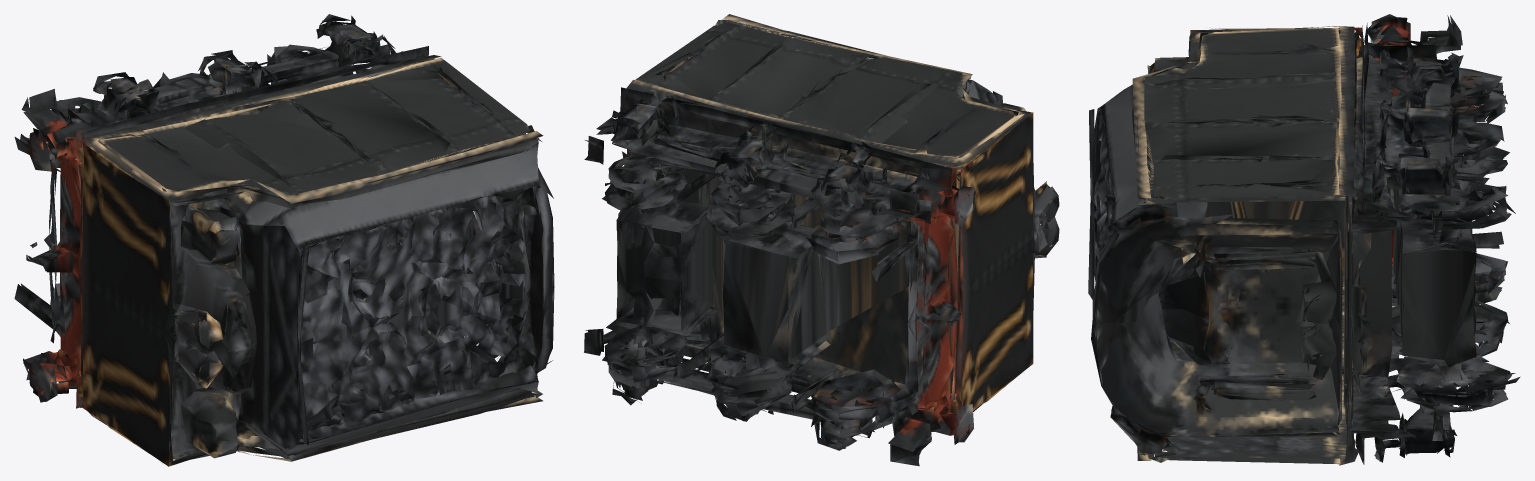
Rendered from black_five_tender_r025.glb.
3 views of the same model, side by side, from view 1: azimuth 30°, elevation 25°; view 2: azimuth 150°, elevation 25°; view 3: azimuth 270°, elevation 25° (orthographic). The views are drawn at different scales.
Parts seen in each view (by area): view 1: part_tender.001; view 2: part_tender.001; view 3: part_tender.001.
Boxes of the visible parts, x1,y1,x2,y2 form: part_tender.001: (14,14,554,466); part_tender.001: (584,14,1059,466); part_tender.001: (1088,14,1520,465).
Size of the model in its own units: 3.78 by 2.86 by 3.72.
1 material, 1 textured.
